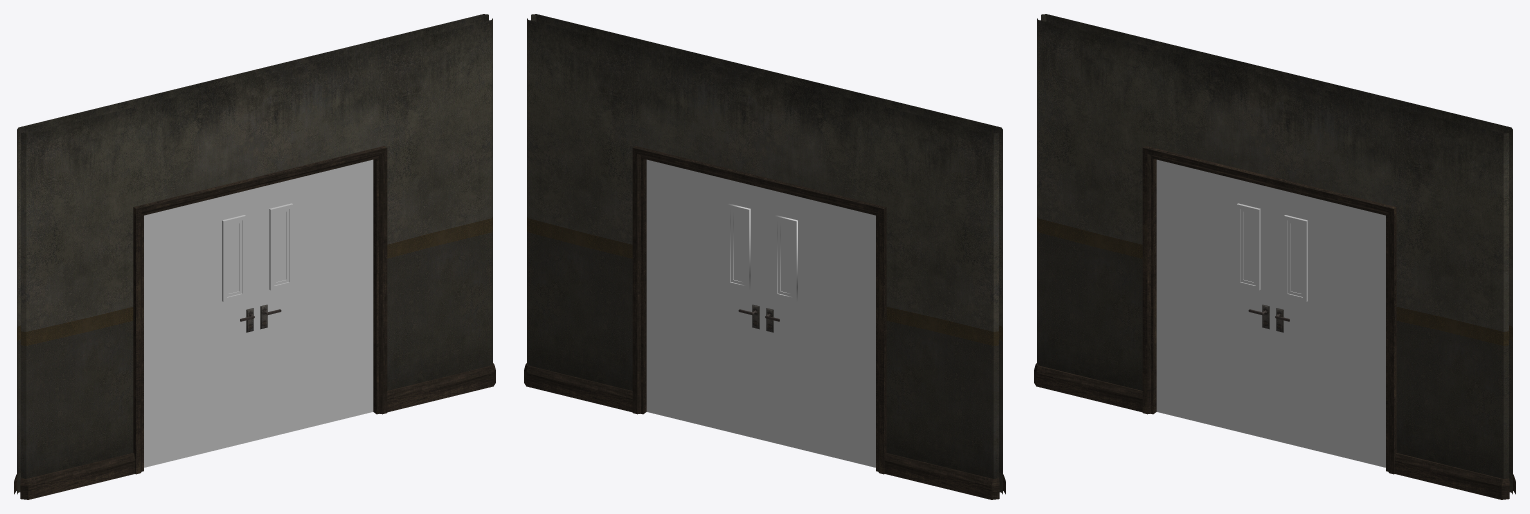
Rendered from doorway_3_wide.fbx.
The picture shows the model from 3 angles, left to right: view 1: azimuth 30°, elevation 25°; view 2: azimuth 150°, elevation 25°; view 3: azimuth 330°, elevation 25°; orthographic projection.
Parts seen in each view (by area): view 1: doorway_3_wide, double_door_3_piece_2, double_door_3_piece_1; view 2: doorway_3_wide, double_door_3_piece_2, double_door_3_piece_1; view 3: doorway_3_wide, double_door_3_piece_1, double_door_3_piece_2.
Part boxes in pixels (x1=…): doorway_3_wide: x1=14, y1=14, x2=495, y2=499; double_door_3_piece_2: x1=257, y1=159, x2=373, y2=440; double_door_3_piece_1: x1=144, y1=188, x2=256, y2=467; doorway_3_wide: x1=524, y1=14, x2=1005, y2=499; double_door_3_piece_2: x1=646, y1=159, x2=762, y2=440; double_door_3_piece_1: x1=763, y1=188, x2=875, y2=467; doorway_3_wide: x1=1034, y1=14, x2=1515, y2=499; double_door_3_piece_1: x1=1156, y1=159, x2=1272, y2=440; double_door_3_piece_2: x1=1273, y1=188, x2=1385, y2=467.
Bounding box in the file's own units: 4.09 × 0.2 × 3.
